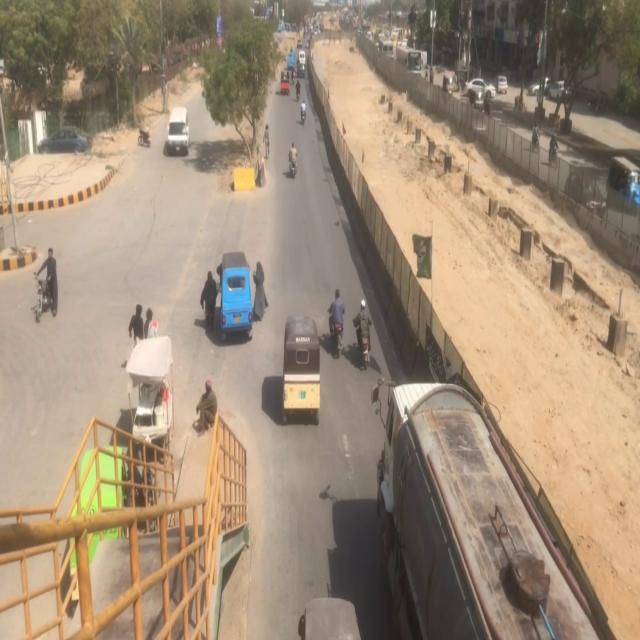motorbike: (29, 244, 61, 328), (352, 284, 378, 382), (326, 282, 350, 374), (287, 140, 299, 178), (298, 98, 311, 125)
truck: (368, 372, 616, 640)
